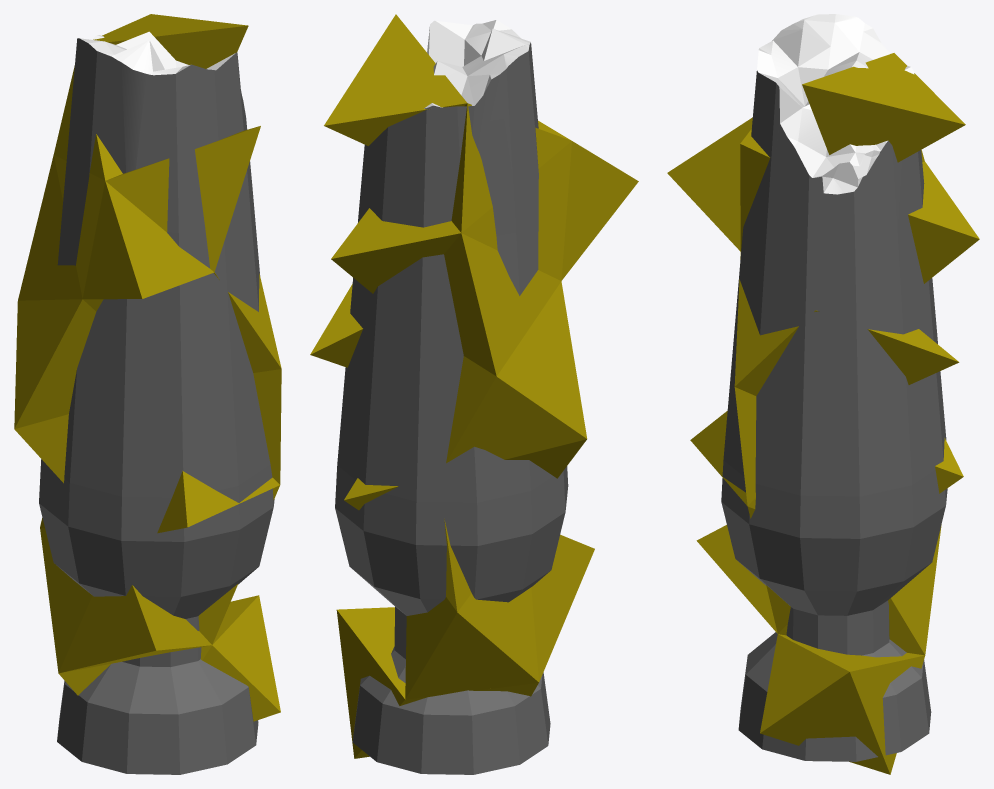
File: SMT_Pillar_Range_13.fbx
3 renders of one model, left to right at view 1: azimuth 30°, elevation 25°; view 2: azimuth 150°, elevation 25°; view 3: azimuth 270°, elevation 25°, orthographic. The views are drawn at different scales.
Visible parts, largest first — view 1: SM_Pillar_Range_13, chunk19_12, chunk21_21, chunk18_10, chunk3_13, chunk7_17, chunk27_27, chunk15_5, chunk1_9, chunk13_3, chunk26_26, chunk12_2 (+5 smaller); view 2: SM_Pillar_Range_13, chunk15_5, chunk27_27, chunk0_7, chunk20_20, chunk21_21, chunk14_4, chunk19_12, chunk17_8, chunk3_13, chunk1_9, chunk28_28 (+6 smaller); view 3: SM_Pillar_Range_13, chunk27_27, chunk6_16, chunk7_17, chunk19_12, chunk14_4, chunk0_7, chunk23_23, chunk3_13, chunk26_26, chunk18_10, chunk12_2 (+4 smaller).
Boxes of the visible parts, bbox=[...] form: SM_Pillar_Range_13: bbox=[39, 31, 274, 774]; chunk19_12: bbox=[82, 181, 213, 299]; chunk21_21: bbox=[14, 299, 95, 428]; chunk18_10: bbox=[106, 126, 260, 272]; chunk3_13: bbox=[59, 585, 211, 673]; chunk7_17: bbox=[202, 595, 280, 721]; chunk27_27: bbox=[93, 14, 248, 68]; chunk15_5: bbox=[18, 155, 82, 300]; chunk1_9: bbox=[40, 527, 92, 672]; chunk13_3: bbox=[157, 471, 279, 533]; chunk26_26: bbox=[214, 272, 281, 372]; chunk12_2: bbox=[253, 369, 281, 484]; SM_Pillar_Range_13: bbox=[335, 20, 568, 774]; chunk15_5: bbox=[444, 233, 561, 376]; chunk27_27: bbox=[324, 14, 467, 145]; chunk0_7: bbox=[405, 597, 538, 699]; chunk20_20: bbox=[446, 356, 586, 463]; chunk21_21: bbox=[497, 281, 587, 438]; chunk14_4: bbox=[331, 208, 460, 293]; chunk19_12: bbox=[561, 141, 638, 280]; chunk17_8: bbox=[461, 141, 571, 280]; chunk3_13: bbox=[531, 534, 594, 682]; chunk1_9: bbox=[457, 587, 538, 681]; chunk28_28: bbox=[451, 103, 571, 232]; SM_Pillar_Range_13: bbox=[721, 14, 947, 761]; chunk27_27: bbox=[802, 53, 965, 162]; chunk6_16: bbox=[760, 655, 925, 774]; chunk7_17: bbox=[760, 634, 924, 732]; chunk19_12: bbox=[667, 117, 752, 251]; chunk14_4: bbox=[908, 161, 979, 283]; chunk0_7: bbox=[778, 524, 941, 655]; chunk23_23: bbox=[816, 310, 959, 384]; chunk3_13: bbox=[696, 525, 777, 633]; chunk26_26: bbox=[734, 252, 815, 386]; chunk18_10: bbox=[740, 129, 769, 251]; chunk12_2: bbox=[734, 387, 756, 505].
Size of the model in its own units: 95.03 by 266 by 108.
